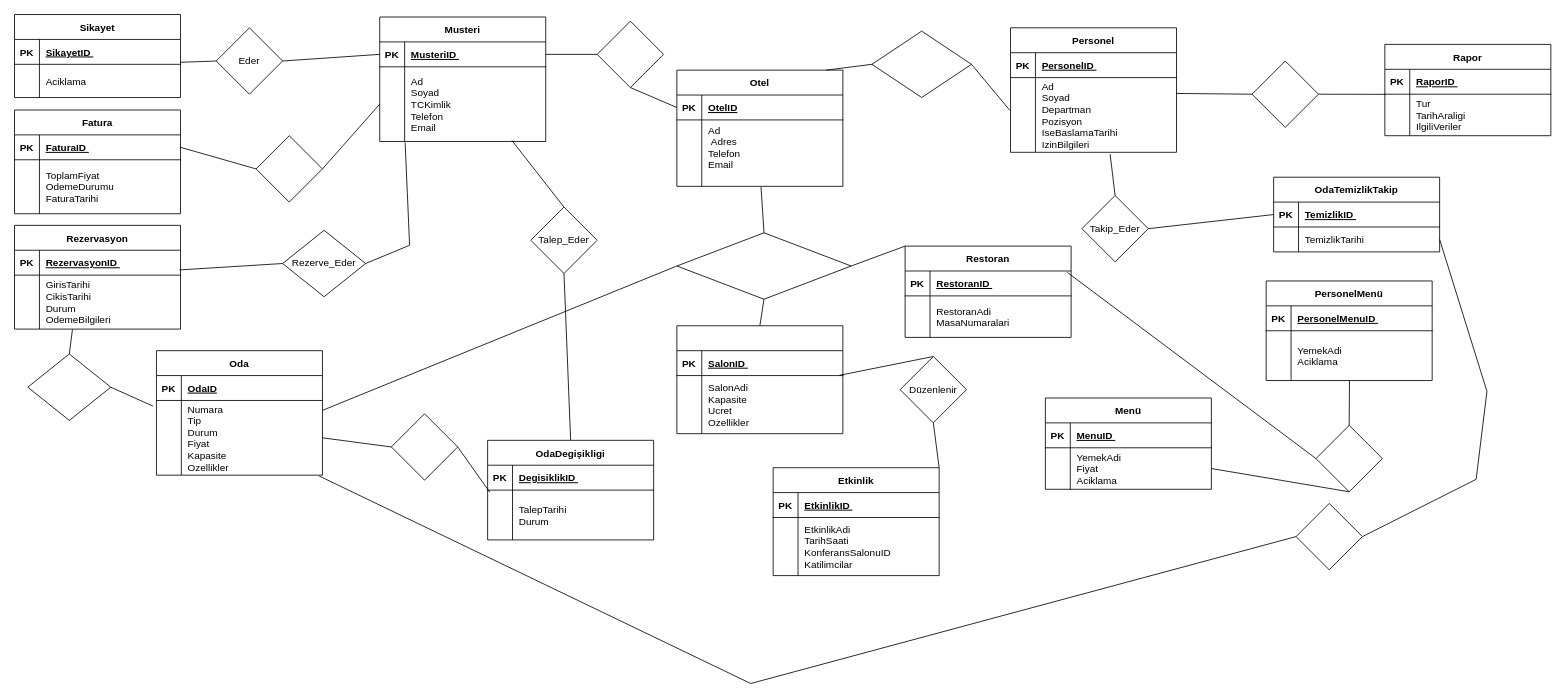
The diagram is 1565 pixels wide and 699 high, and some of its shapes have lost their labels. Each missing label, with the box of its shape:
Değiştirilir: (391, 413, 458, 480)
KonferansSalonu: (676, 325, 843, 434)
Oluşturur: (1315, 425, 1382, 492)
Otelde_Kalır: (596, 20, 664, 88)
Otelde_Vardır: (676, 232, 851, 299)
Otelde_Çalışır: (871, 30, 972, 98)
Rezeve_Edilir: (27, 353, 111, 420)
Temizliği Yapılır: (1295, 503, 1362, 570)
Yazar: (1251, 60, 1318, 127)
Öder: (255, 135, 322, 202)
